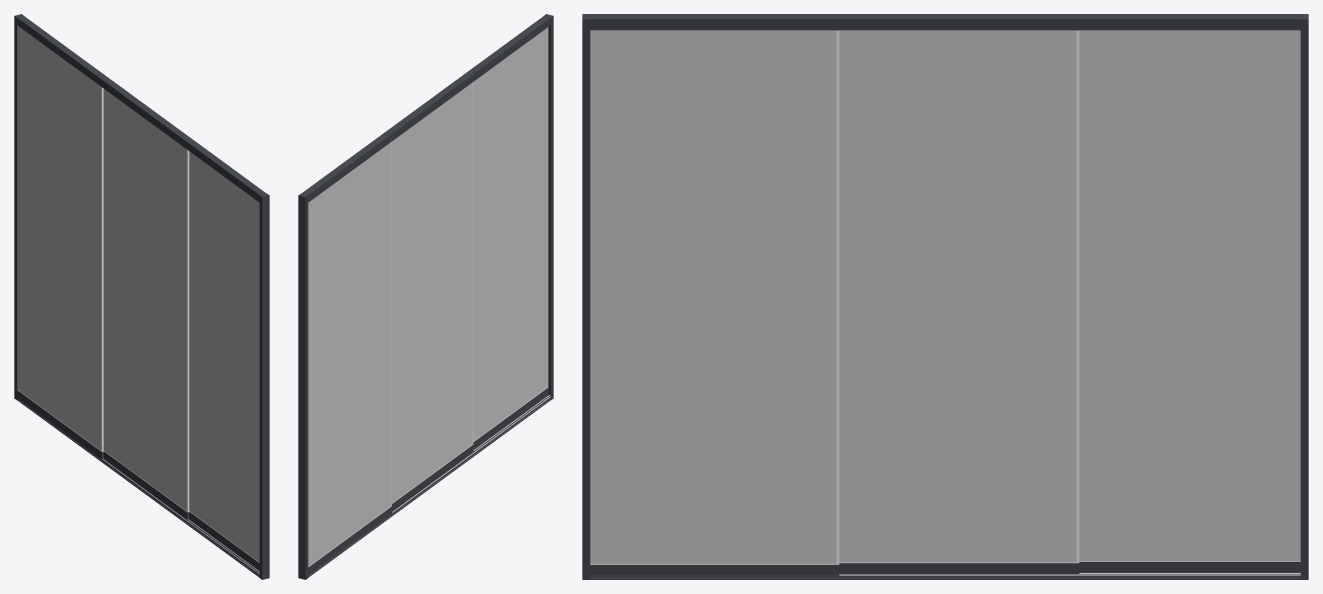
Rendered from nebbiolo_sliding_door_right_600_300.glb.
3 renders of one model, left to right at view 1: azimuth 30°, elevation 25°; view 2: azimuth 150°, elevation 25°; view 3: azimuth 270°, elevation 25°, orthographic. The views are drawn at different scales.
Visible parts, largest first — view 1: sliding_door_right_600_300; view 2: sliding_door_right_600_300; view 3: sliding_door_right_600_300.
Boxes of the visible parts, x1,y1,x2,y2 form: sliding_door_right_600_300: (14,14,269,579); sliding_door_right_600_300: (298,14,553,579); sliding_door_right_600_300: (582,14,1308,579).
Size of the model in its own units: 0.0501 by 2.5 by 2.94.
3 materials, 1 textured.
